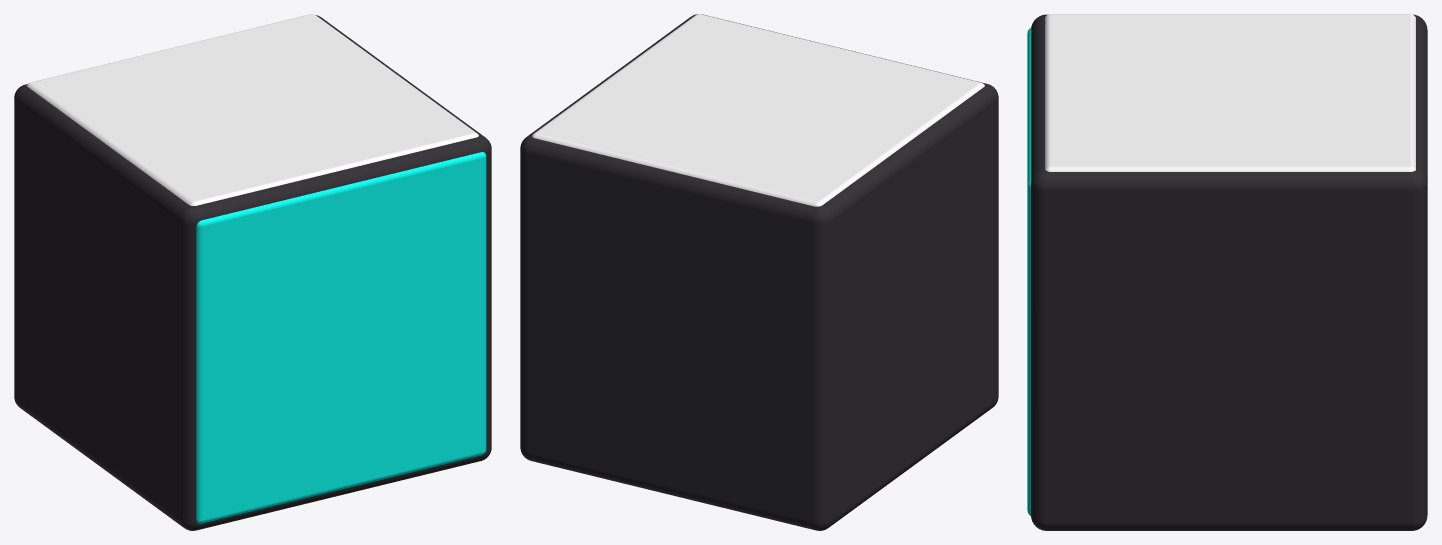
Rendered from wbEdge.obj.
3 renders of one model, left to right at view 1: azimuth 30°, elevation 25°; view 2: azimuth 150°, elevation 25°; view 3: azimuth 270°, elevation 25°, orthographic. The views are drawn at different scales.
Parts seen in each view (by area): view 1: 002_blue_(face), 000_Base, 001_white; view 2: 000_Base, 001_white; view 3: 000_Base, 001_white, 002_blue_(face).
Part boxes in pixels (x1,y1,x2,y2): 002_blue_(face): (196,152,486,523); 000_Base: (14,15,491,530); 001_white: (26,14,478,205); 000_Base: (520,14,998,530); 001_white: (532,14,984,206); 000_Base: (1031,14,1427,530); 001_white: (1045,14,1415,171); 002_blue_(face): (1027,27,1031,515).
Size of the model in its own units: 100 by 101 by 101.
